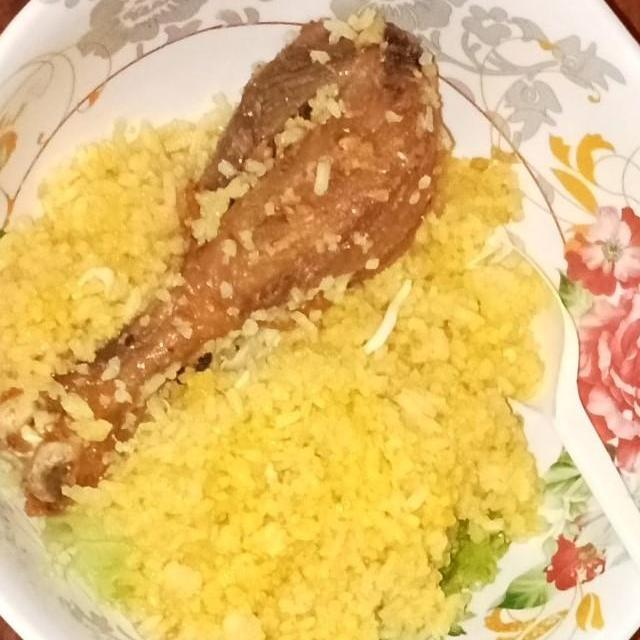com: (45, 137, 558, 640), (0, 85, 242, 432)
thit ga: (0, 7, 456, 527)
